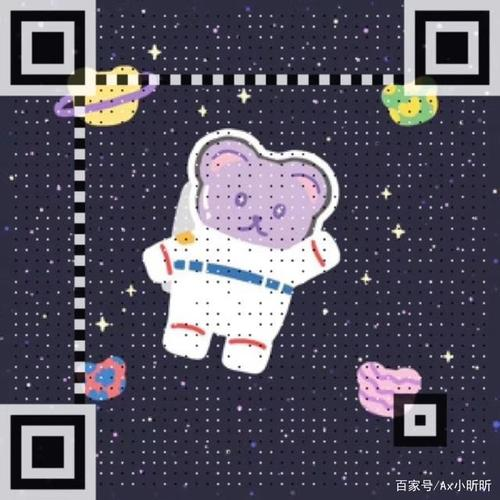QRCode: (1, 3, 500, 500)
